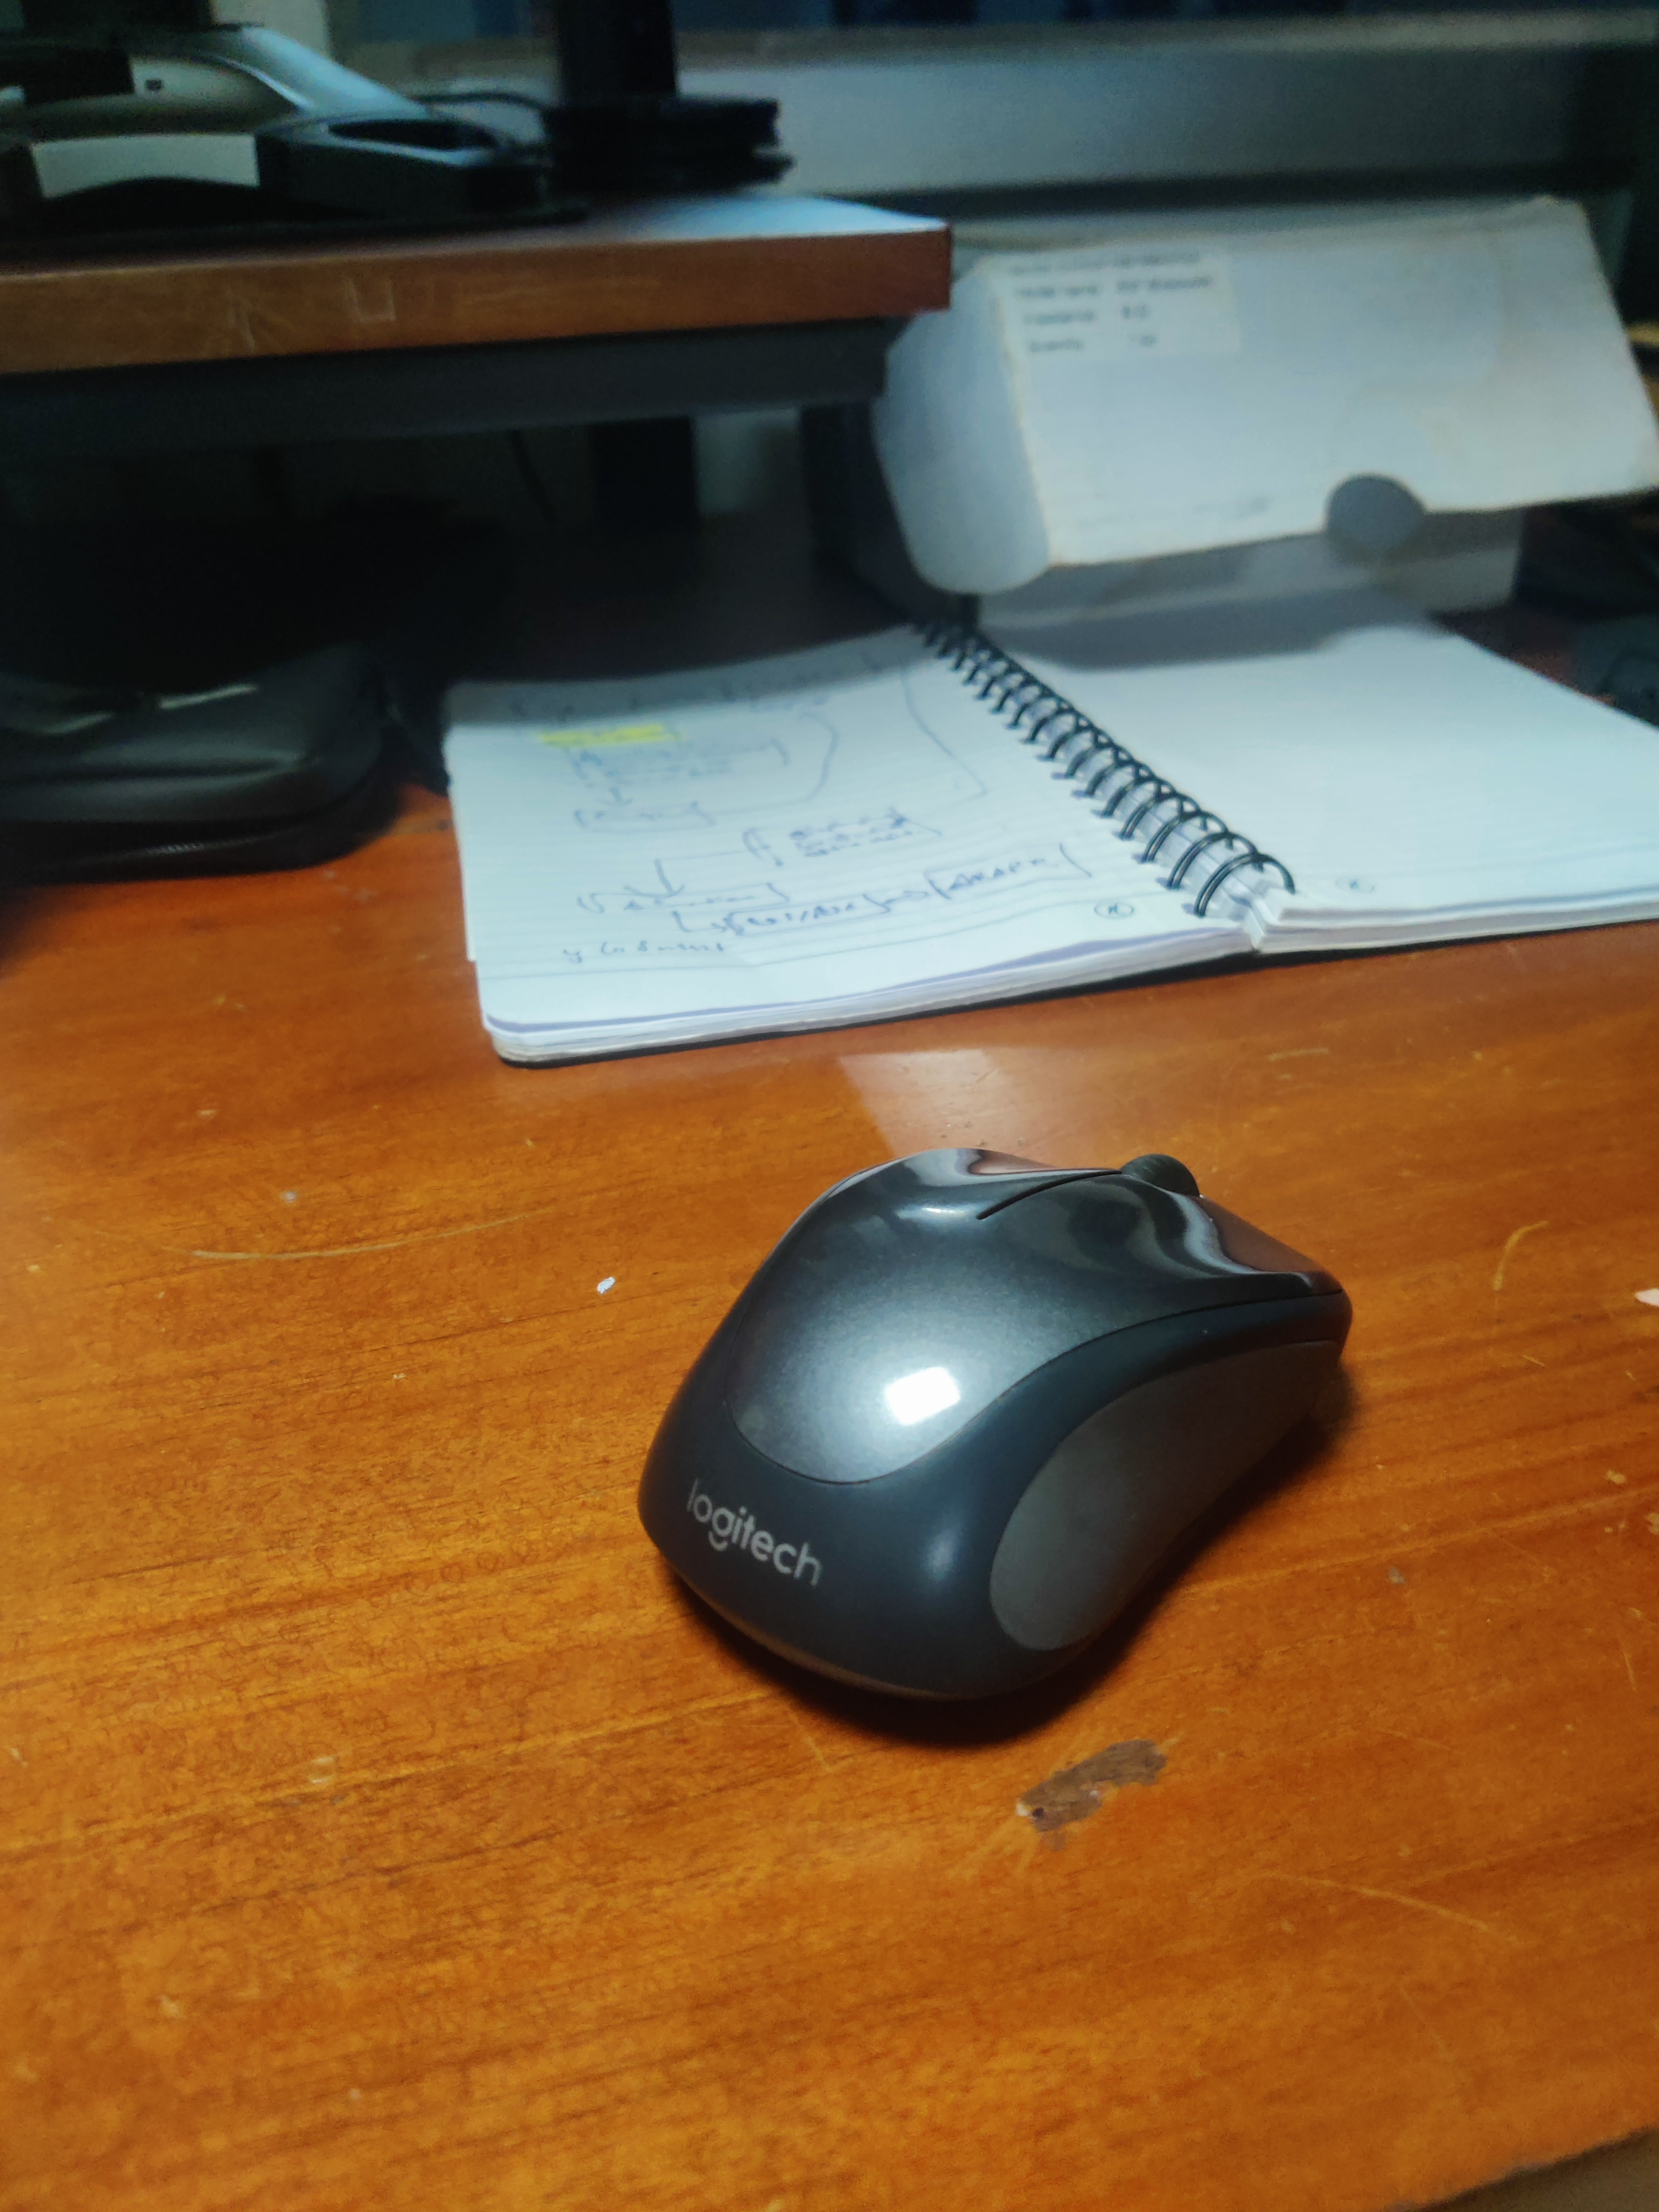logitechMouse: (612, 1111, 1375, 1757)
